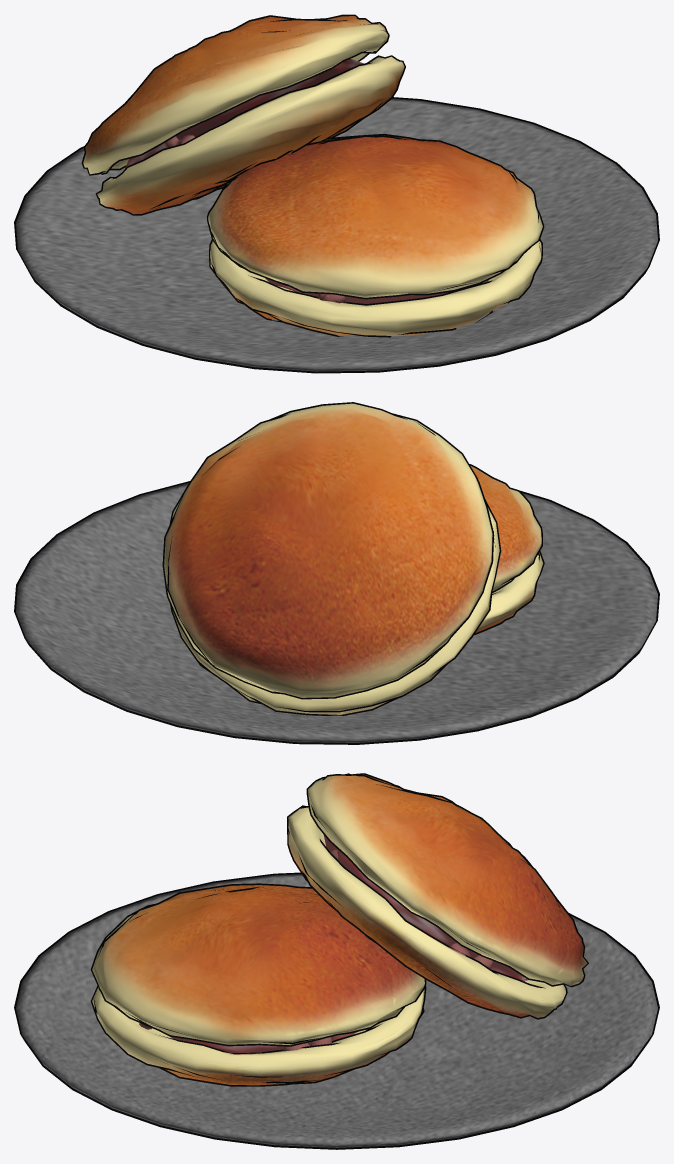
Rendered from doracake.glb.
3 views of the same model, one above another, from view 1: azimuth 30°, elevation 25°; view 2: azimuth 150°, elevation 25°; view 3: azimuth 270°, elevation 25° (orthographic).
Parts seen in each view (by area): view 1: plate_4, dorayaki_main_0, dorayaki_main.001_2, anko.001_3, anko_1; view 2: dorayaki_main.001_2, plate_4, dorayaki_main_0; view 3: plate_4, dorayaki_main_0, dorayaki_main.001_2, anko.001_3, anko_1.
Boxes of the visible parts, x1,y1,x2,y2 form: plate_4: (14, 97, 659, 373); dorayaki_main_0: (207, 133, 544, 337); dorayaki_main.001_2: (81, 14, 405, 215); anko.001_3: (125, 59, 363, 168); anko_1: (265, 278, 448, 303); dorayaki_main.001_2: (162, 402, 501, 715); plate_4: (14, 481, 659, 744); dorayaki_main_0: (469, 464, 544, 635); plate_4: (14, 872, 659, 1149); dorayaki_main_0: (90, 883, 426, 1086); dorayaki_main.001_2: (287, 773, 588, 1019); anko.001_3: (323, 835, 528, 981); anko_1: (169, 1032, 356, 1054).
Bounding box in the file's own units: 3.52 × 1.4 × 3.52.
5 materials, 3 textured.
